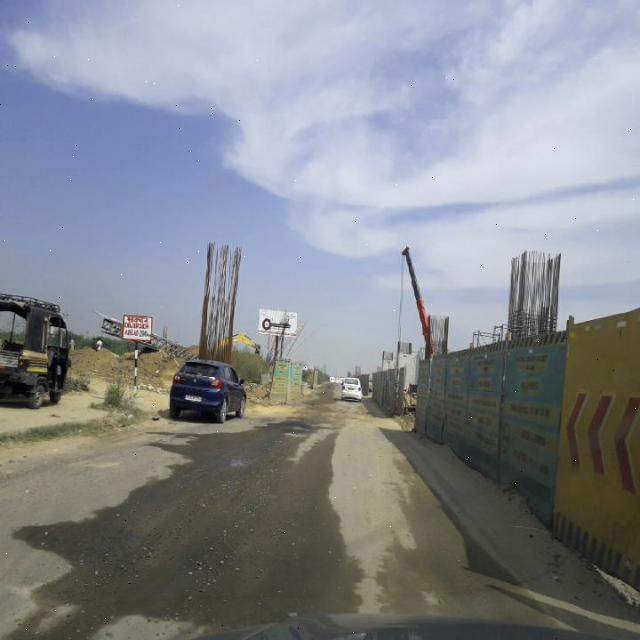D40: (210, 444, 260, 480), (266, 404, 316, 440)
